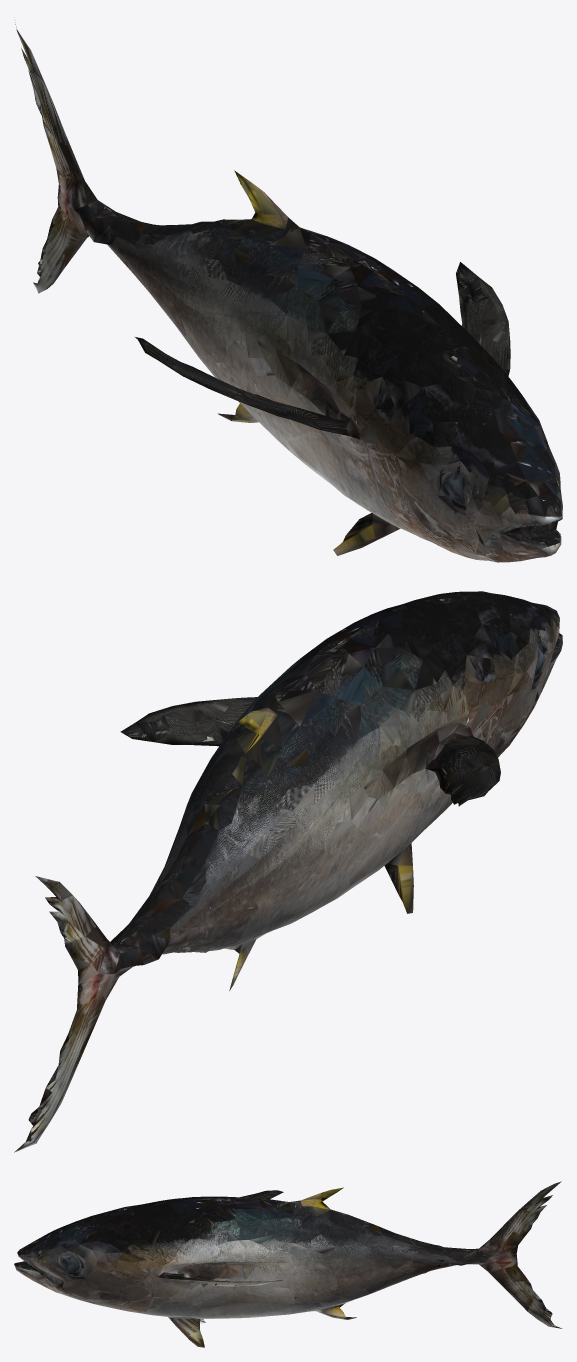
File: tuna.glb
The picture shows the model from 3 angles, top to bottom: view 1: azimuth 30°, elevation 25°; view 2: azimuth 150°, elevation 25°; view 3: azimuth 270°, elevation 25°; orthographic projection. The views are drawn at different scales.
Parts seen in each view (by area): view 1: tuna; view 2: tuna; view 3: tuna.
Part boxes in pixels (x1=…): tuna: x1=15, y1=22, x2=562, y2=562; tuna: x1=14, y1=591, x2=562, y2=1152; tuna: x1=14, y1=1181, x2=562, y2=1347.
Bounding box in the file's own units: 0.4437 × 0.3598 × 1.2.
Materials: 3 (3 with a texture image).
